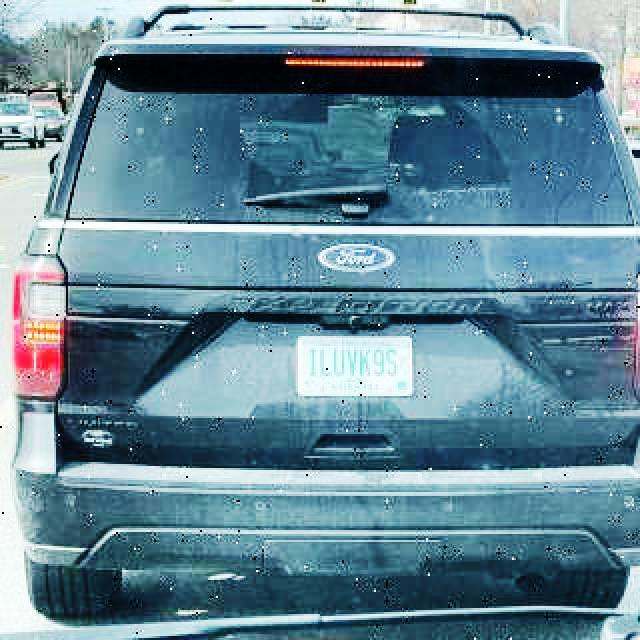license_plate: (297, 336, 417, 396)
